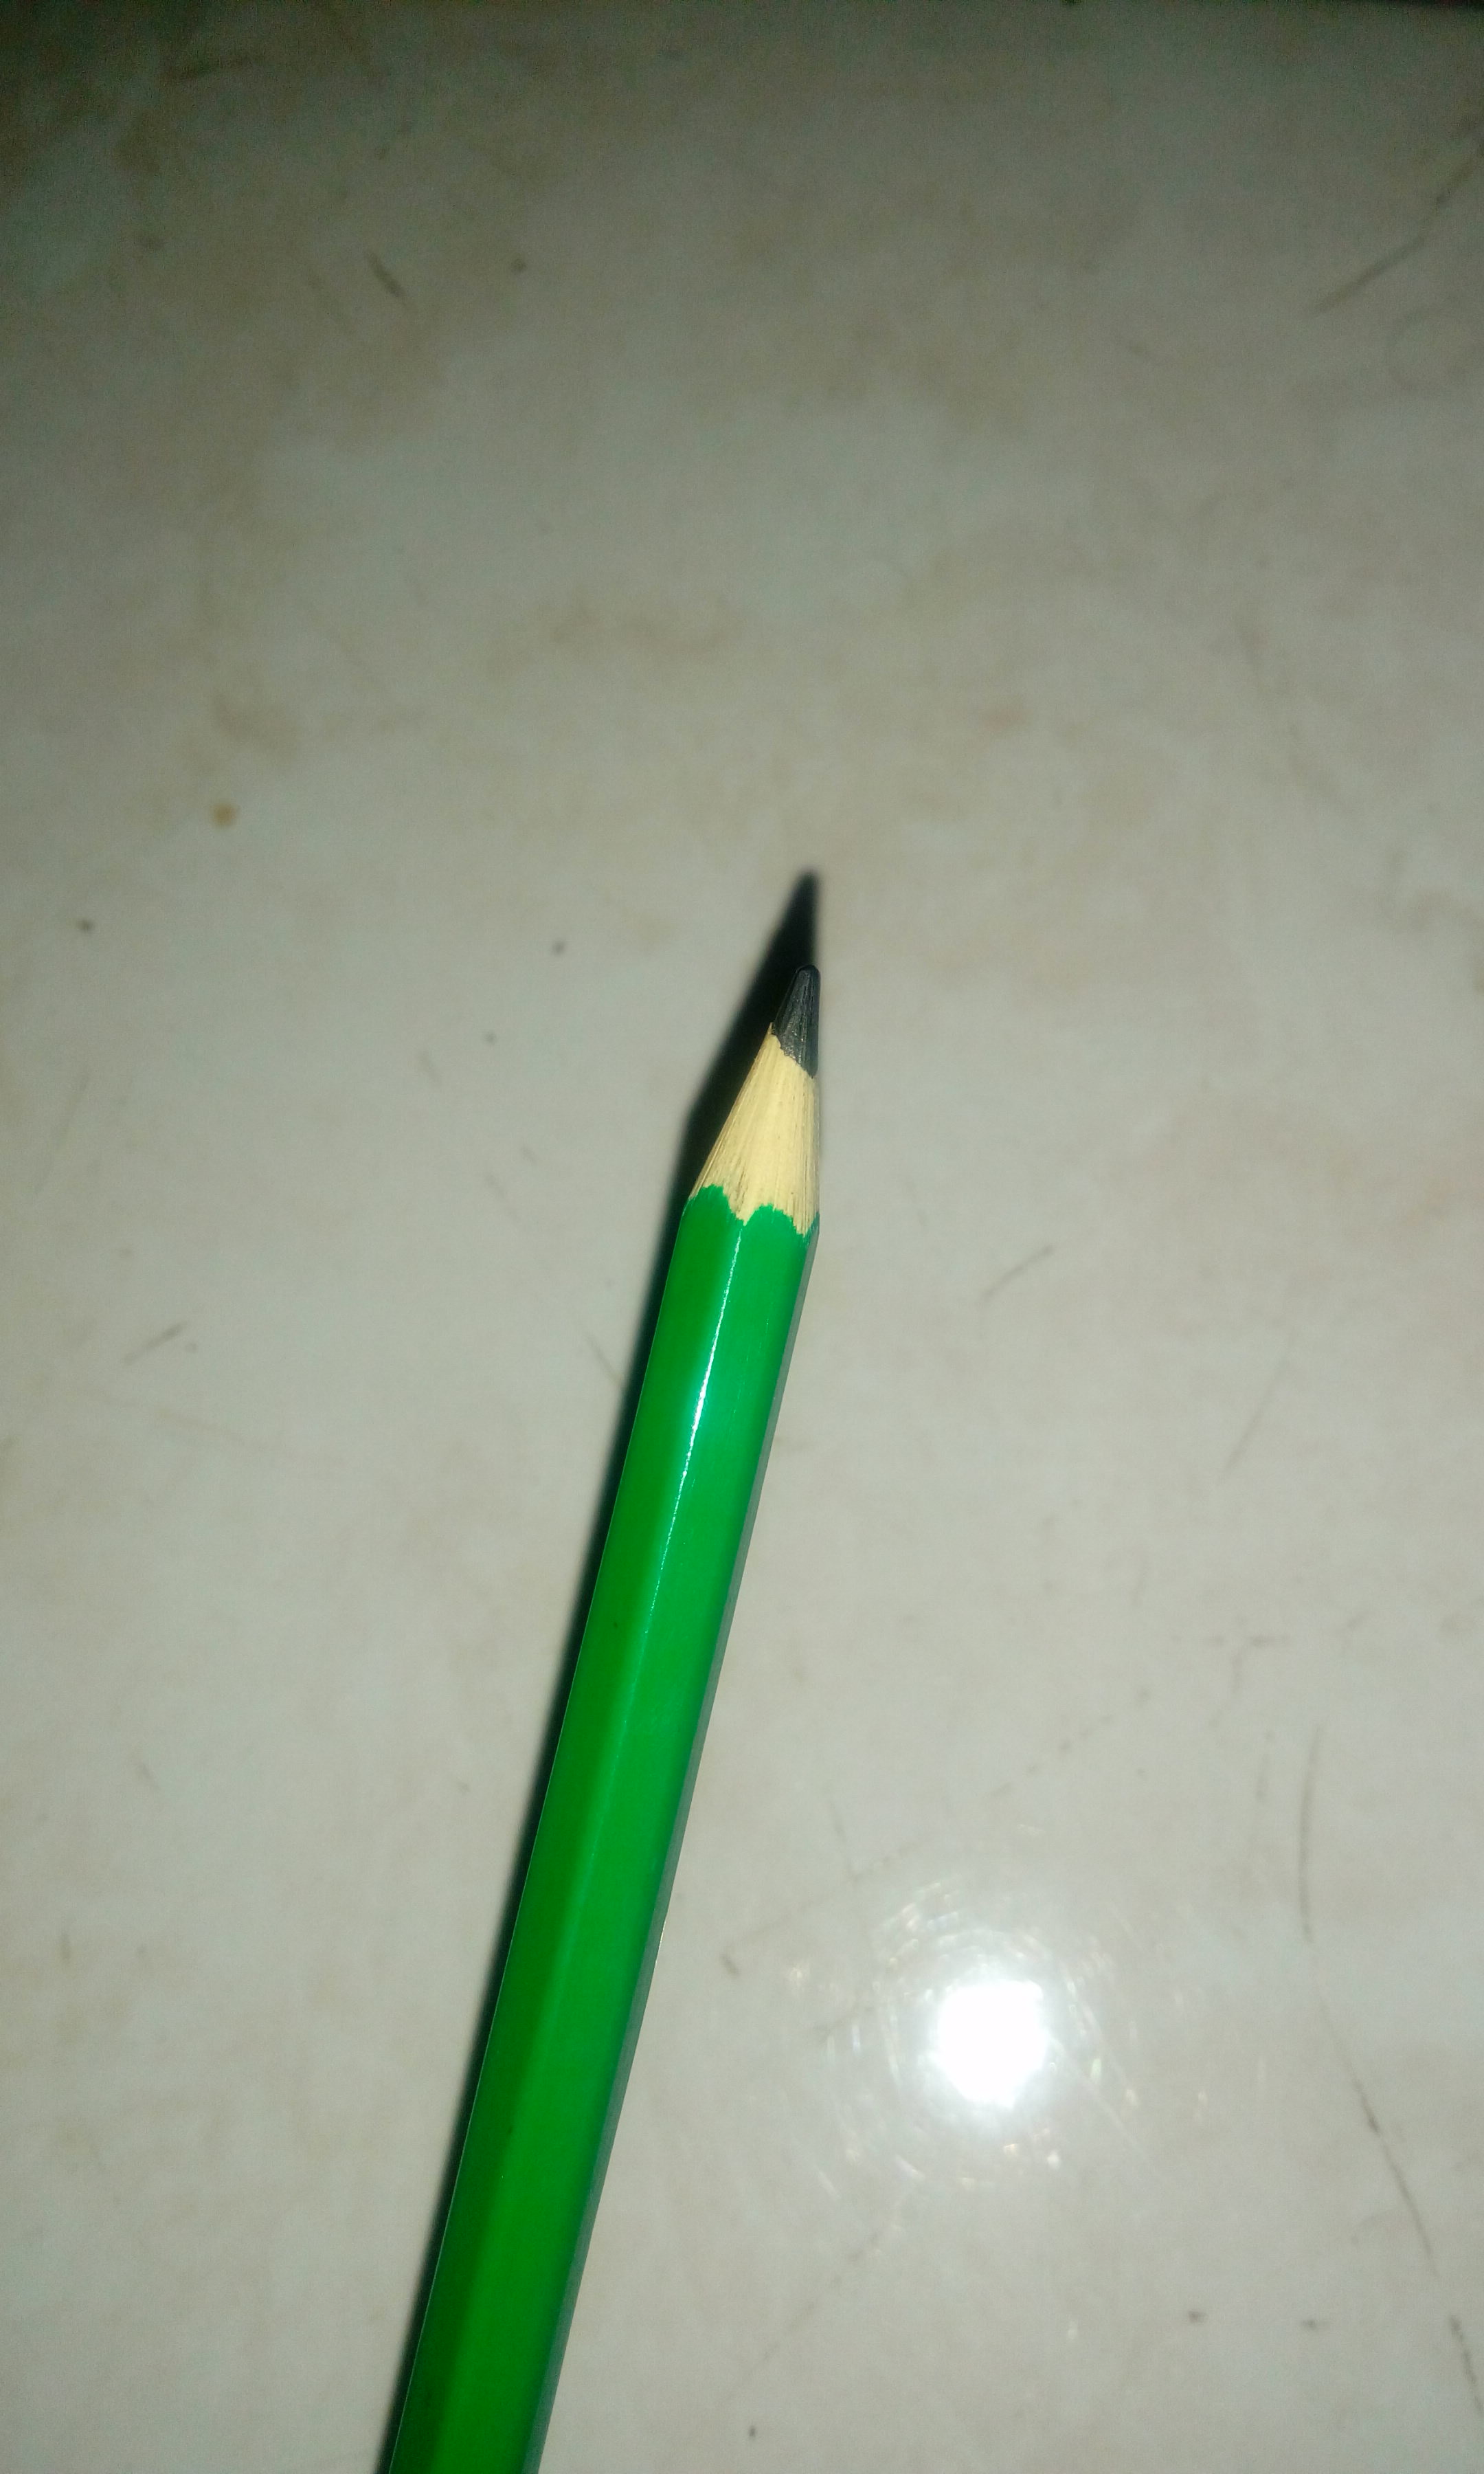pen_tip: (629, 908, 993, 1309)
